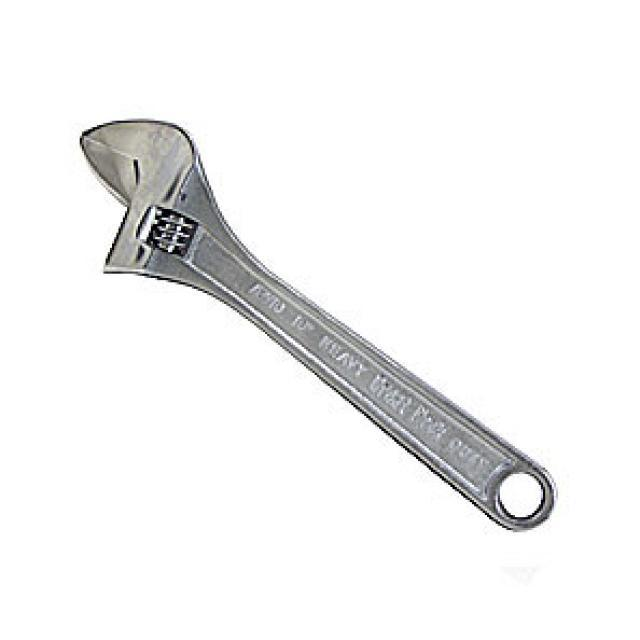wrench: (71, 109, 562, 537)
